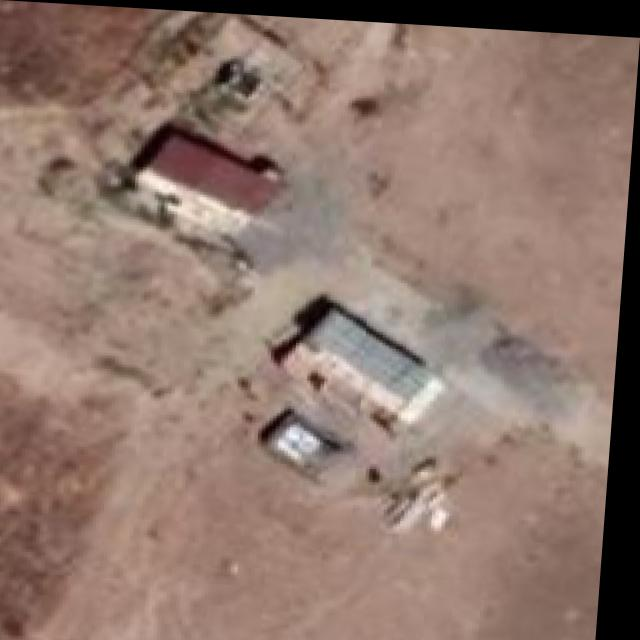Batiment: (279, 292, 451, 426), (136, 127, 287, 212)
